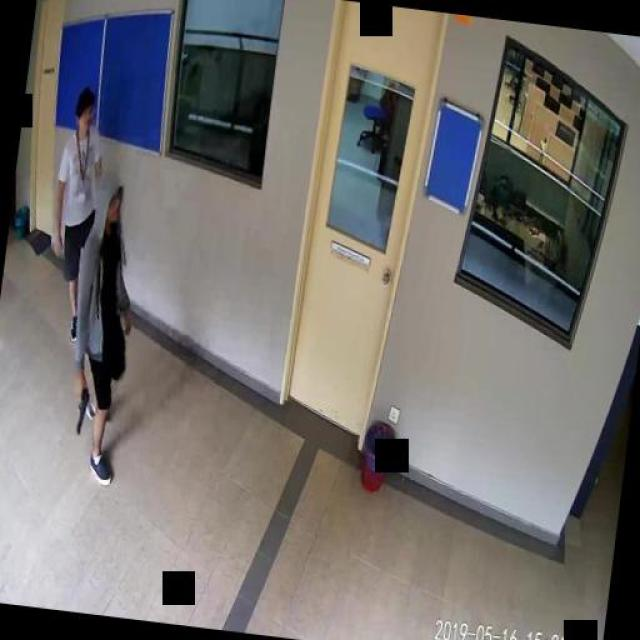gun: (71, 385, 89, 433)
